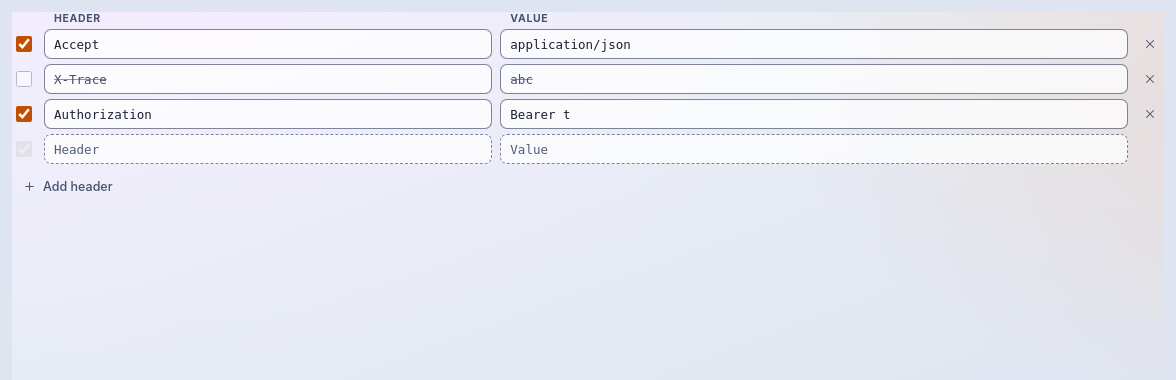
Test: KeyValueEditor › keeps focus in place after removing a row
The width and height of the screenshot is (1176, 380).
Click the button named "Remove header 2 (X-Trace)": (1150, 79) [1136,65,1164,93]
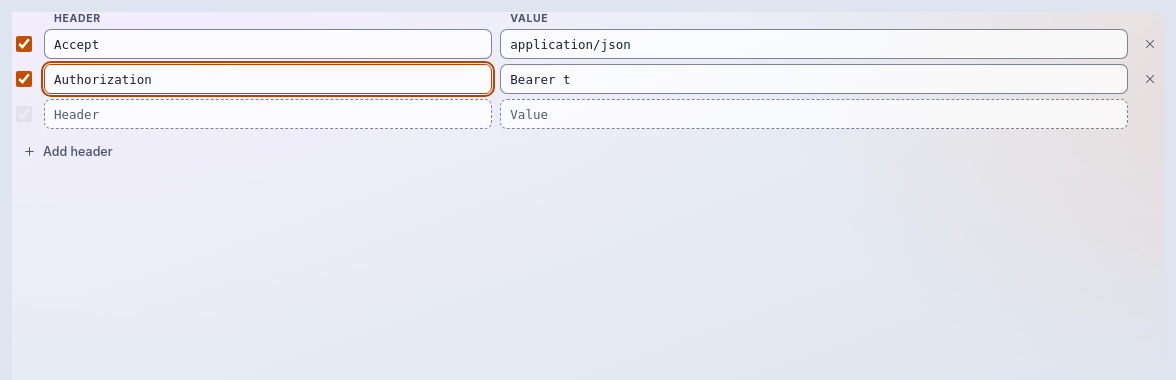
Expected: the field named "Header 2 name" holds "Authorization", [44,64,492,94]
